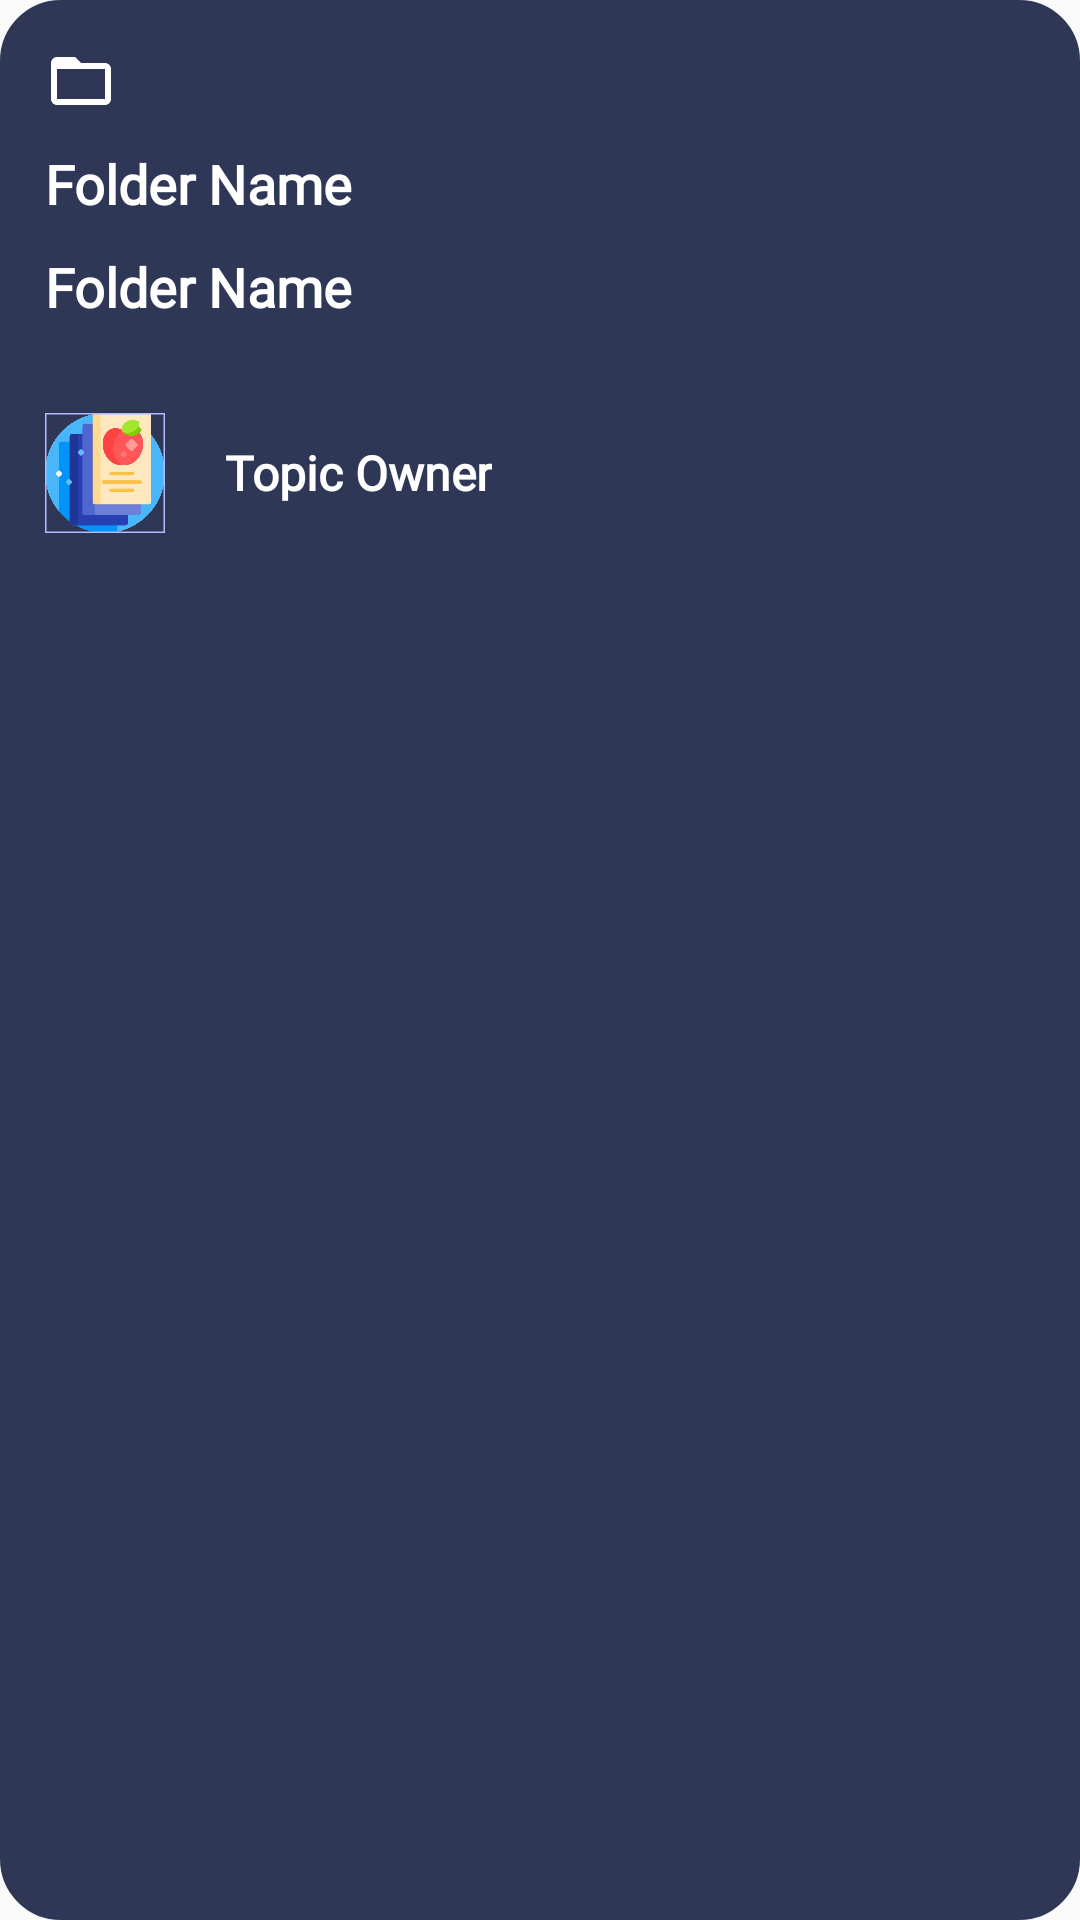

Screen size 1080×1920. Icon name, then its center in pixels as (x,y):
flashcard: (105,473)
